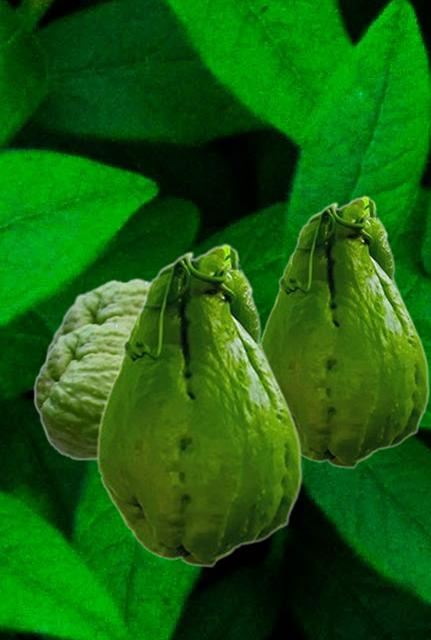sayote: (96, 243, 302, 567), (261, 195, 429, 468), (33, 321, 128, 460), (45, 277, 150, 358)
